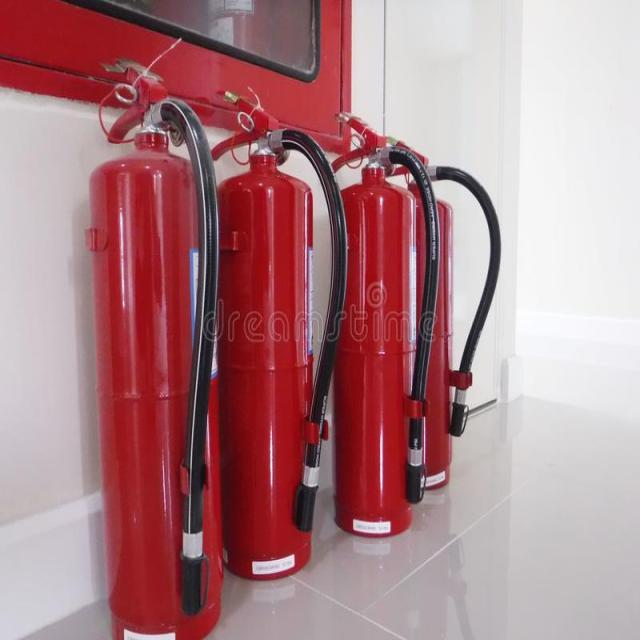fire_extinguisher: (82, 50, 232, 639), (201, 82, 353, 586), (318, 101, 441, 542), (368, 128, 505, 500)
